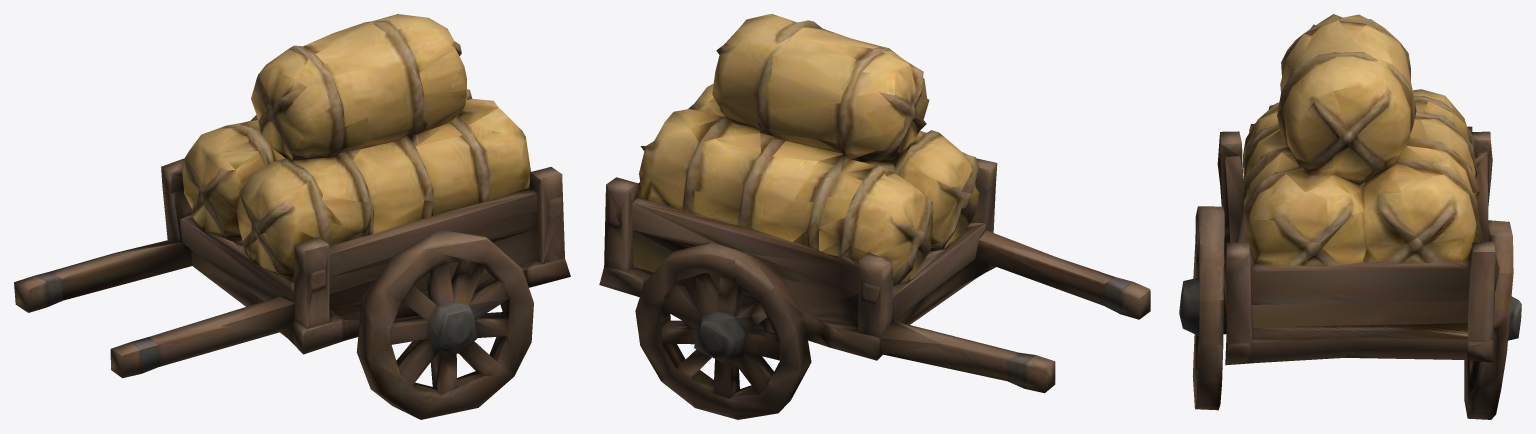
Rendered from cart.glb.
The picture shows the model from 3 angles, left to right: view 1: azimuth 30°, elevation 25°; view 2: azimuth 150°, elevation 25°; view 3: azimuth 270°, elevation 25°; orthographic projection. The views are drawn at different scales.
Parts seen in each view (by area): view 1: tripo_node_3feb10ae-adef-46a5-9597-eaba9f3e7101; view 2: tripo_node_3feb10ae-adef-46a5-9597-eaba9f3e7101; view 3: tripo_node_3feb10ae-adef-46a5-9597-eaba9f3e7101.
Boxes of the visible parts, x1=… form: tripo_node_3feb10ae-adef-46a5-9597-eaba9f3e7101: x1=14, y1=14, x2=570, y2=419; tripo_node_3feb10ae-adef-46a5-9597-eaba9f3e7101: x1=599, y1=14, x2=1150, y2=419; tripo_node_3feb10ae-adef-46a5-9597-eaba9f3e7101: x1=1179, y1=14, x2=1521, y2=419.
Size of the model in its own units: 0.9789 by 0.7294 by 0.635.
Materials: 1 (1 with a texture image).
